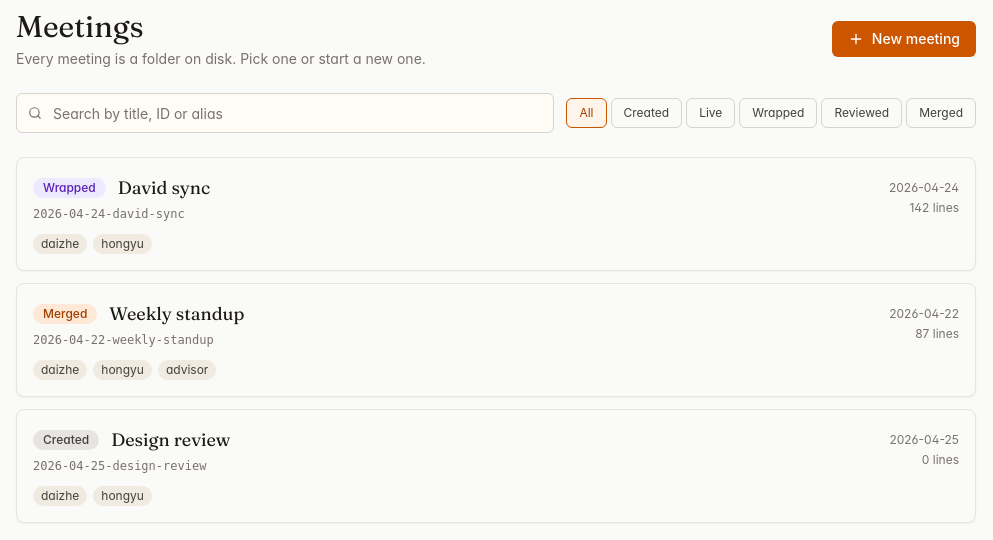
MeetingsList › search query narrows the list
This screenshot has width=993, height=540.
Type "David" into the field named "Search meetings".
click(285, 113); type("David")  # box [16,93,554,133]
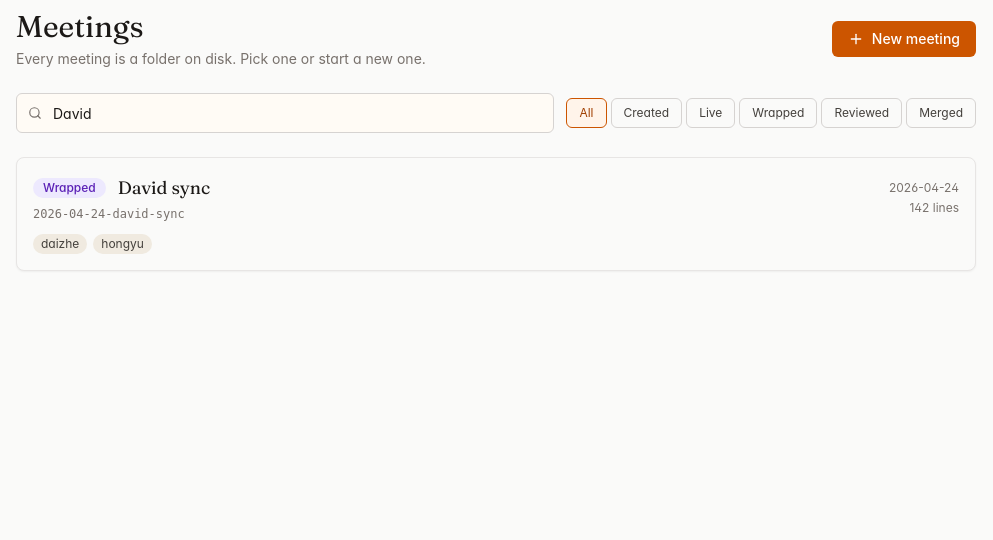
Expected: the heading "David sync" is shown, [118,174,210,202]
Expected: the button "Weekly standup" is gone
